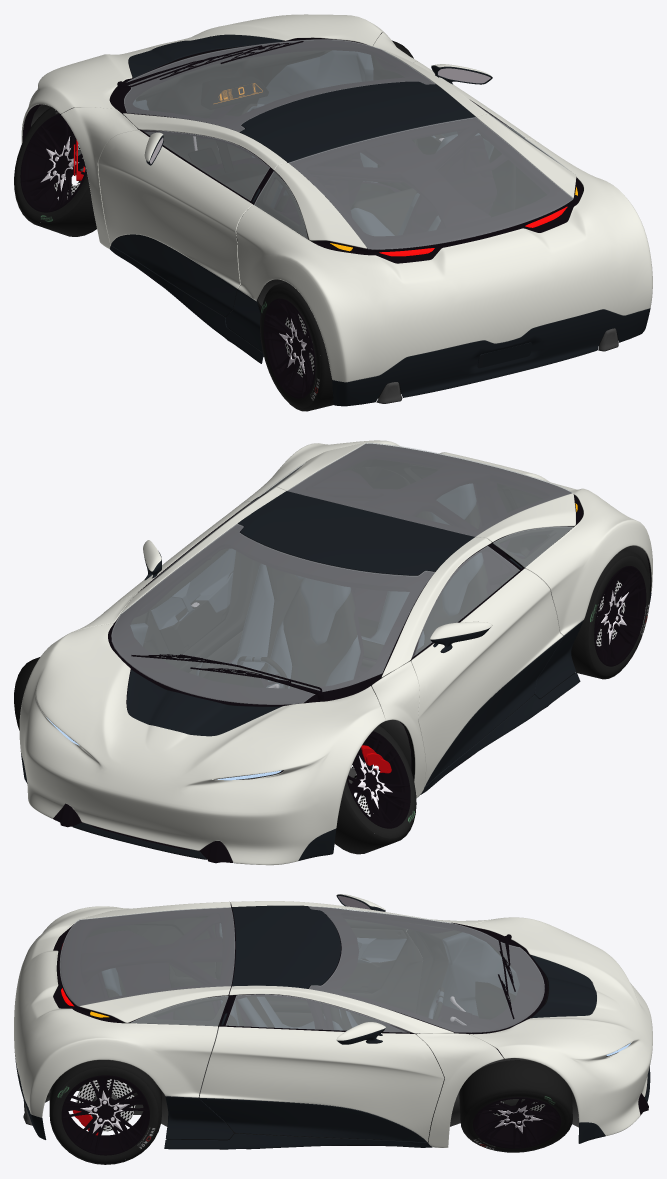
The model's file is cabek-vehicle.glb.
The picture shows the model from 3 angles, top to bottom: view 1: azimuth 30°, elevation 25°; view 2: azimuth 150°, elevation 25°; view 3: azimuth 270°, elevation 25°; orthographic projection. The views are drawn at different scales.
Visible parts, largest first — view 1: GT body, Pivot wheel_fl mesh, Pivot wheel_rl mesh; view 2: GT body, Pivot wheel_fl mesh, Pivot wheel_rl mesh, Pivot wheel_fr mesh; view 3: GT body, Pivot wheel_rr mesh, Pivot wheel_fr mesh.
Part boxes in pixels (x1,y1,x2,y2): GT body: (21, 14, 652, 406); Pivot wheel_fl mesh: (14, 107, 96, 236); Pivot wheel_rl mesh: (260, 282, 333, 411); GT body: (19, 440, 652, 865); Pivot wheel_fl mesh: (334, 725, 416, 854); Pivot wheel_rl mesh: (571, 549, 649, 679); Pivot wheel_fr mesh: (14, 657, 39, 730); GT body: (14, 894, 652, 1149); Pivot wheel_rr mesh: (49, 1060, 161, 1164); Pivot wheel_fr mesh: (459, 1060, 572, 1152).
Bounding box in the file's own units: 2.77 × 1.26 × 4.75.
Materials: 22 (5 with a texture image).
